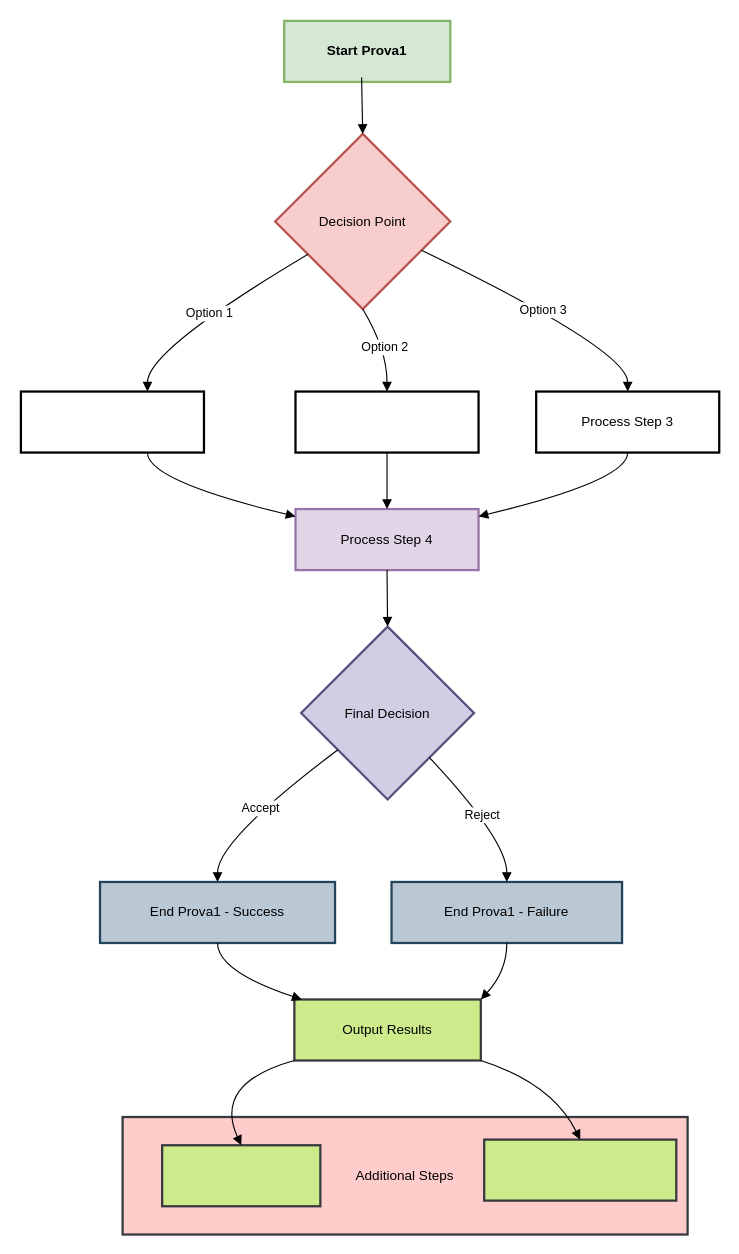
The diagram is 739 pixels wide and 1254 high, and some of its shapes have lost their labels. Each missing label, with the box of its shape:
Log Results: (160, 1144, 321, 1207)
Process Step 1: (19, 390, 205, 453)
Process Step 2: (294, 390, 479, 453)
Send Notifications: (483, 1138, 677, 1201)
